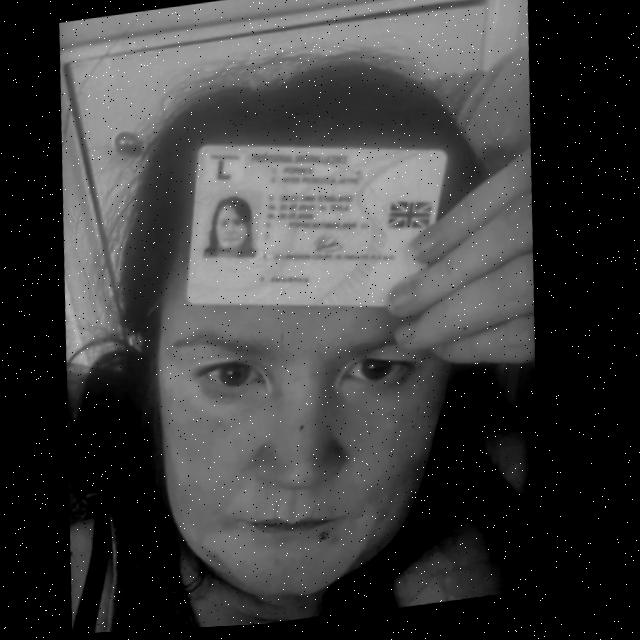card: (188, 145, 447, 306)
